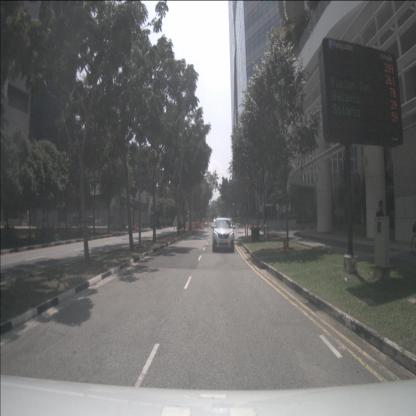human-pedestrian-adult: (376, 200, 384, 253)
movable_object-barrier: (194, 221, 201, 230), (134, 223, 140, 229), (121, 223, 126, 230), (187, 222, 191, 230), (200, 222, 204, 229), (191, 222, 194, 229), (186, 222, 188, 229)
vehicle-bicycle: (411, 220, 416, 256)
vehicle-car: (212, 218, 234, 253)
